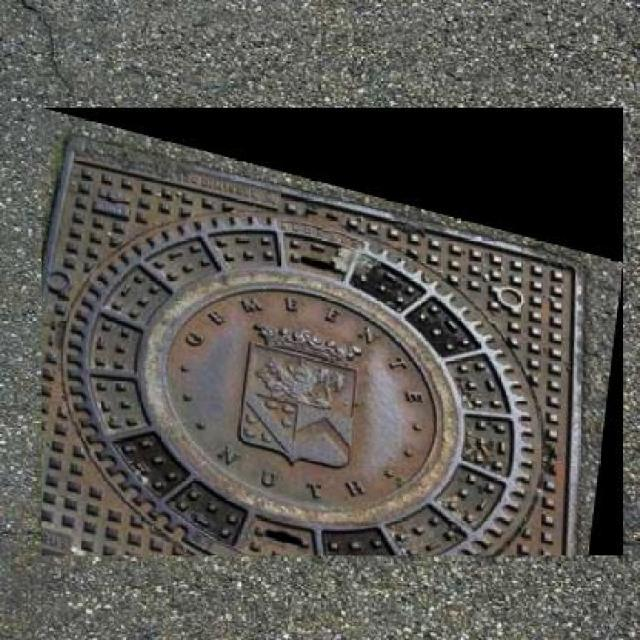Manhole: (42, 108, 624, 556)
